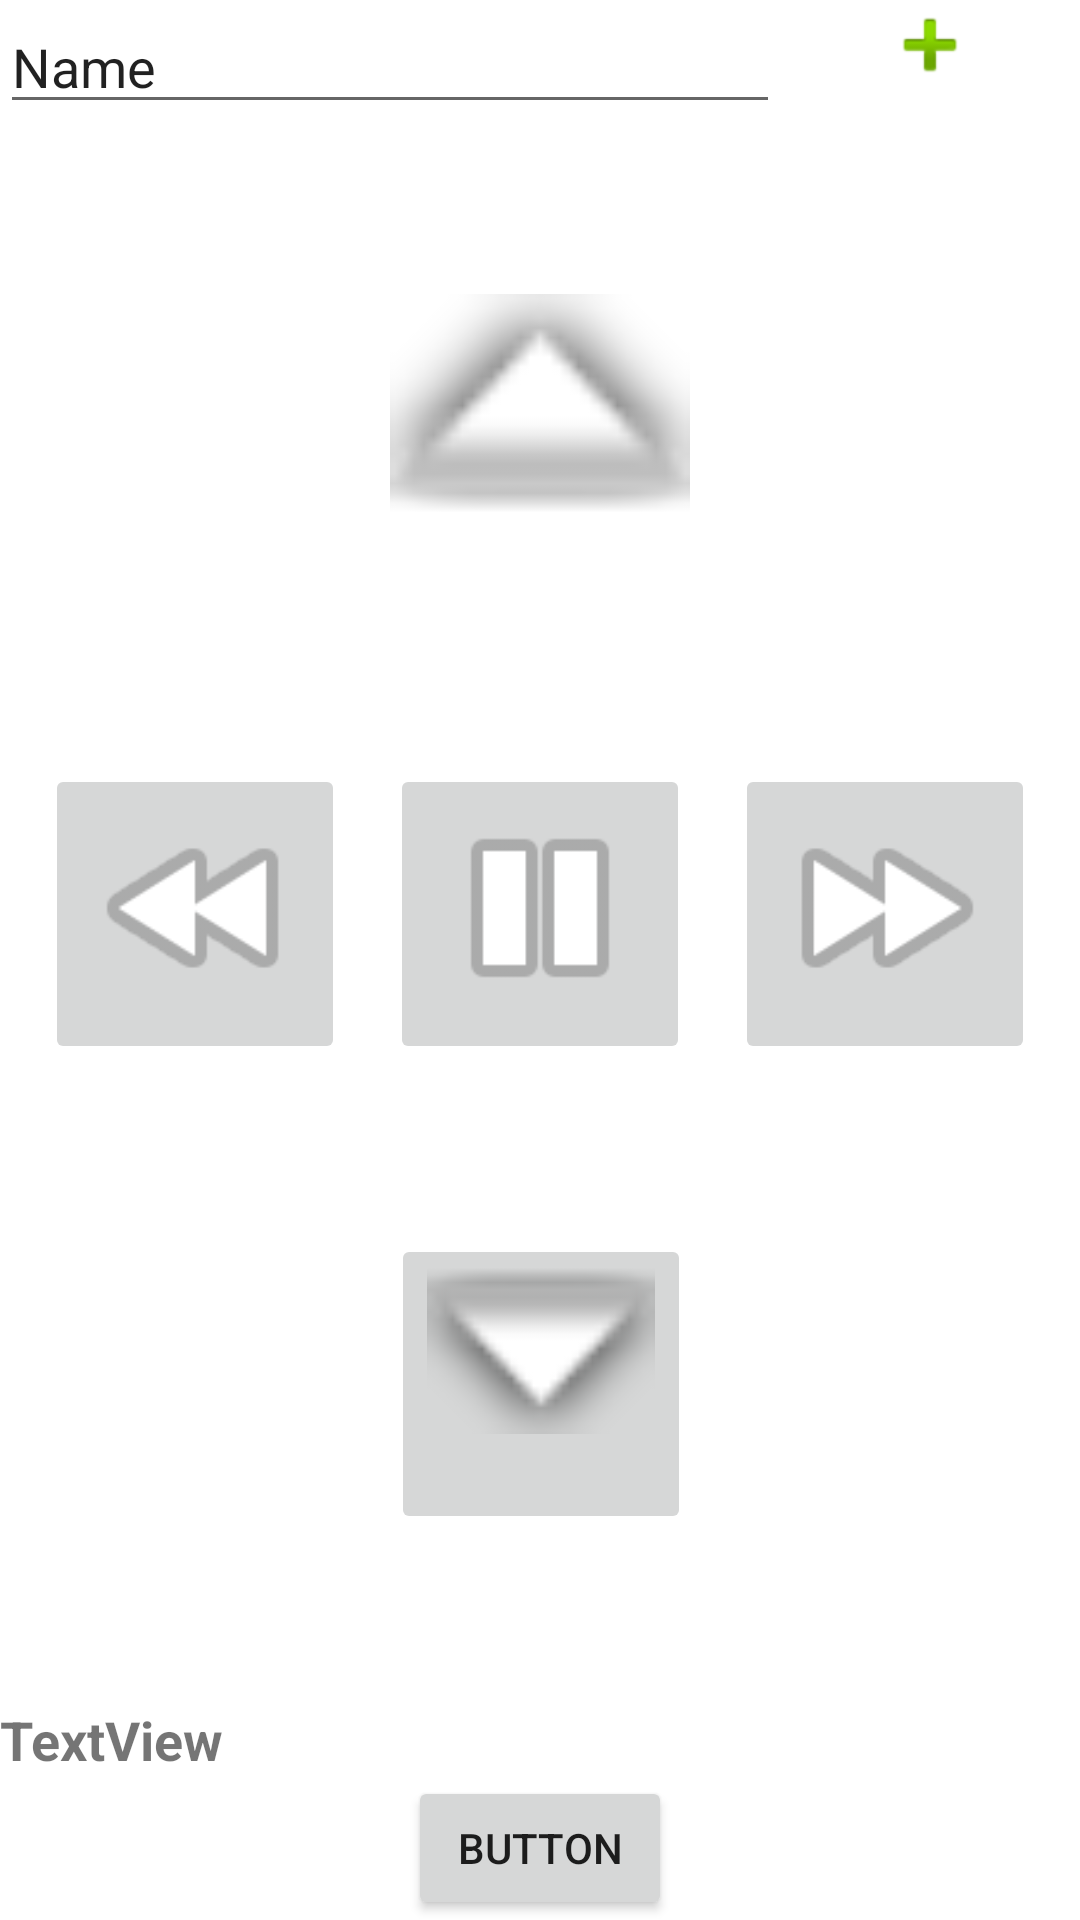

Screen size 1080 x 1920. Icon name, then its center in pixels as (x=x, y=y):
add: (x=930, y=45)
arrow down float: (x=541, y=1384)
arrow up float: (x=540, y=402)
pause: (x=540, y=914)
rew: (x=195, y=914)
